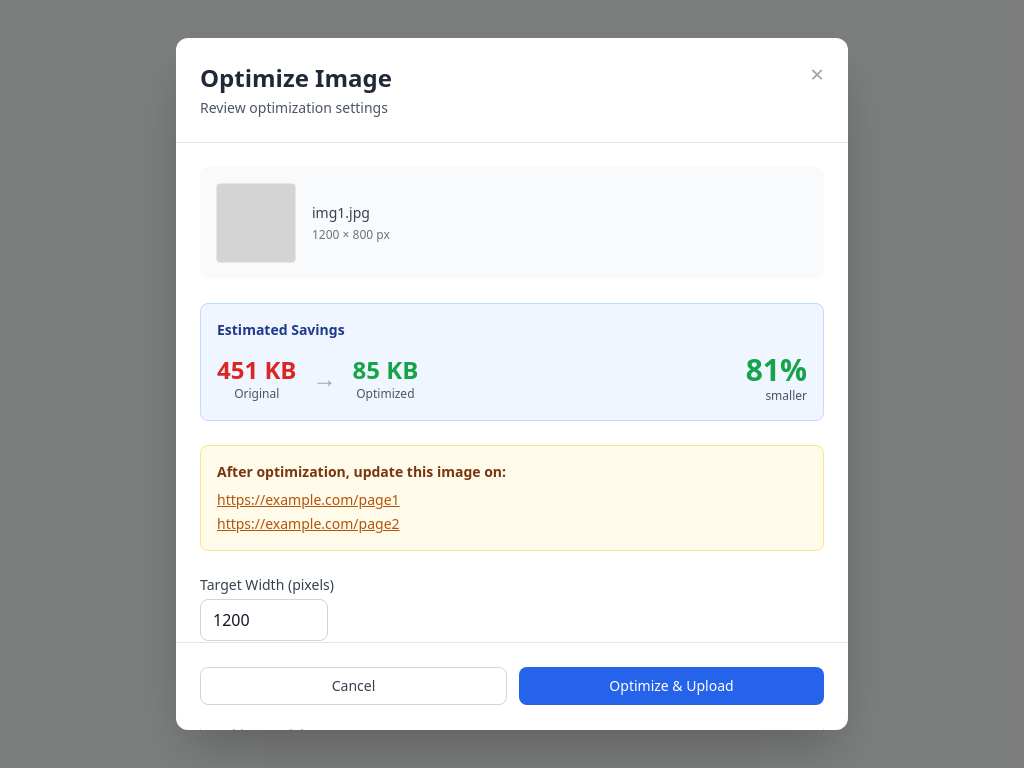
Test: OptimizeExistingModal › shows optimizing state during process
Click the button "Optimize & Upload": (672, 687) [519,668,824,706]
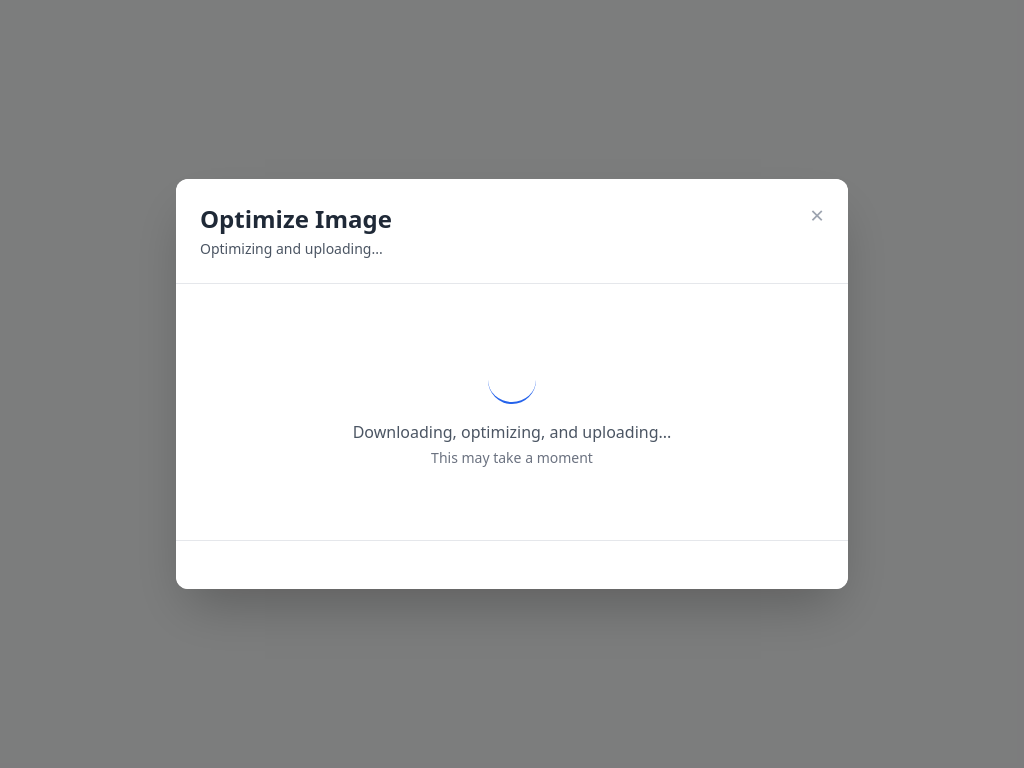
Expected: the text "Optimizing and uploading..." is shown, [200,239,392,259]
